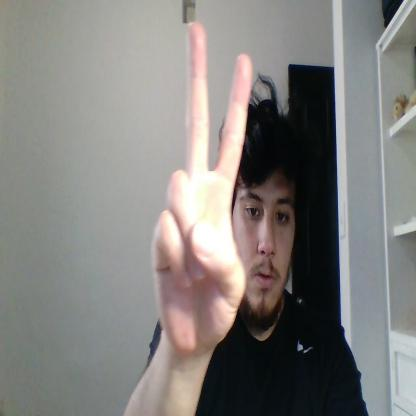V: (150, 21, 252, 353)
